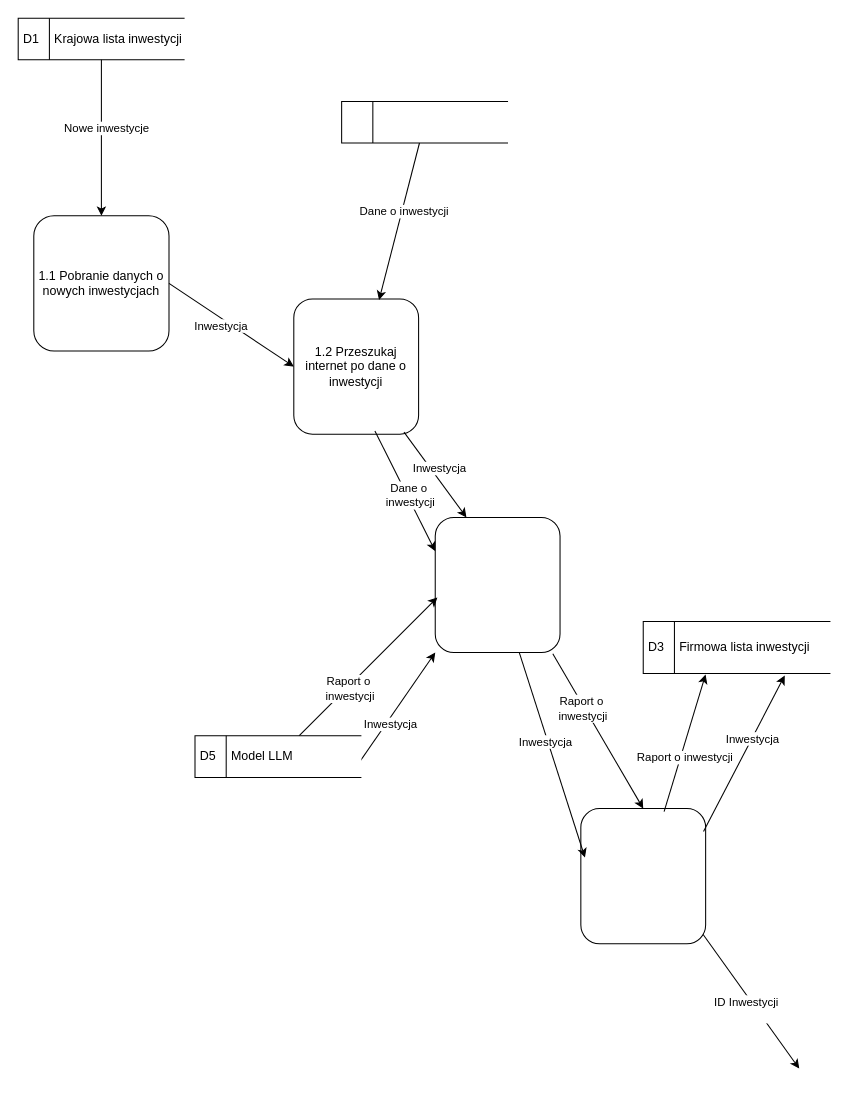
Some shapes in this 849 by 1095 pixel diagram are drawn without their labels. The shapes that lost their labels are listed below. From the top down, each one's centre as x and y in pixels, then its label:
At point 424,121: "D4 Internet".
At point 497,584: "1.3 Sporządzenie raportu o inwestycji".
At point 643,876: "1.4 Dodanie raportu o inwestycji do firmowej listy inwestycji".
